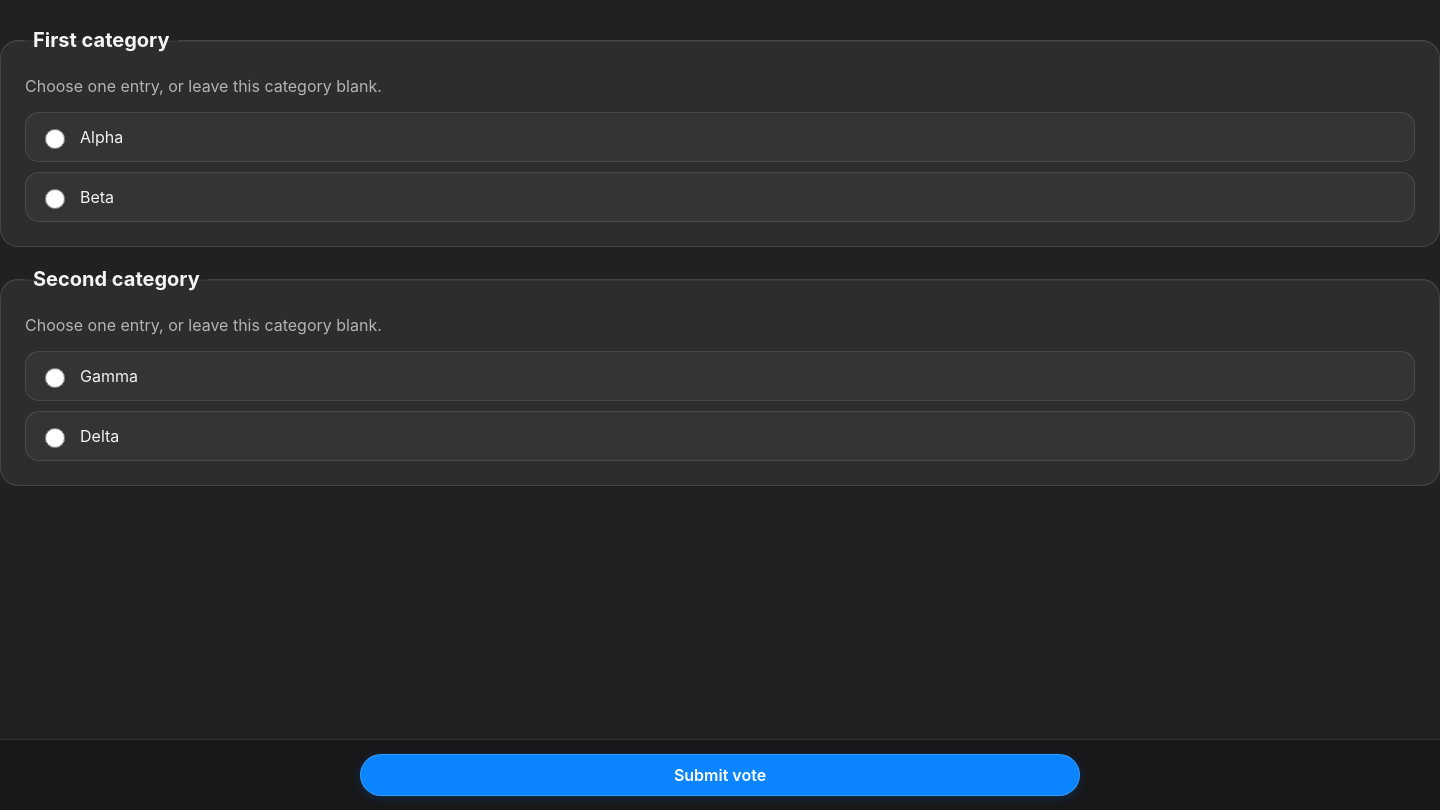
Test: EventBallot › blocks empty ballot, confirms submission, then shows exact read-only ballot
Click the button "Submit vote". click: (720, 775)
box: [360,754,1080,796]
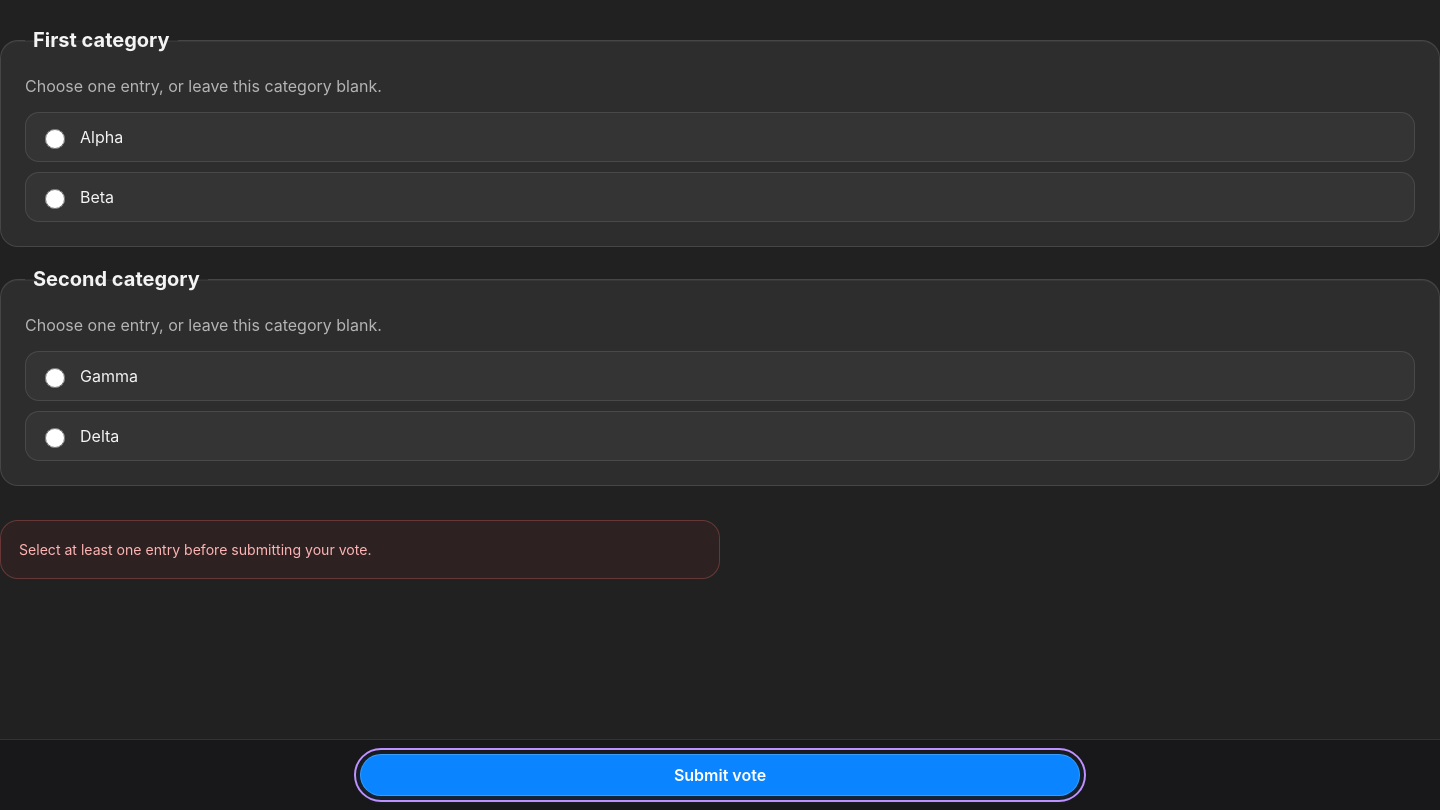
Check: the message shows "Select at least one entry", box [19,541,372,558]
Click the radio button labelled "Beta". click: (55, 198)
box: [45,188,65,208]
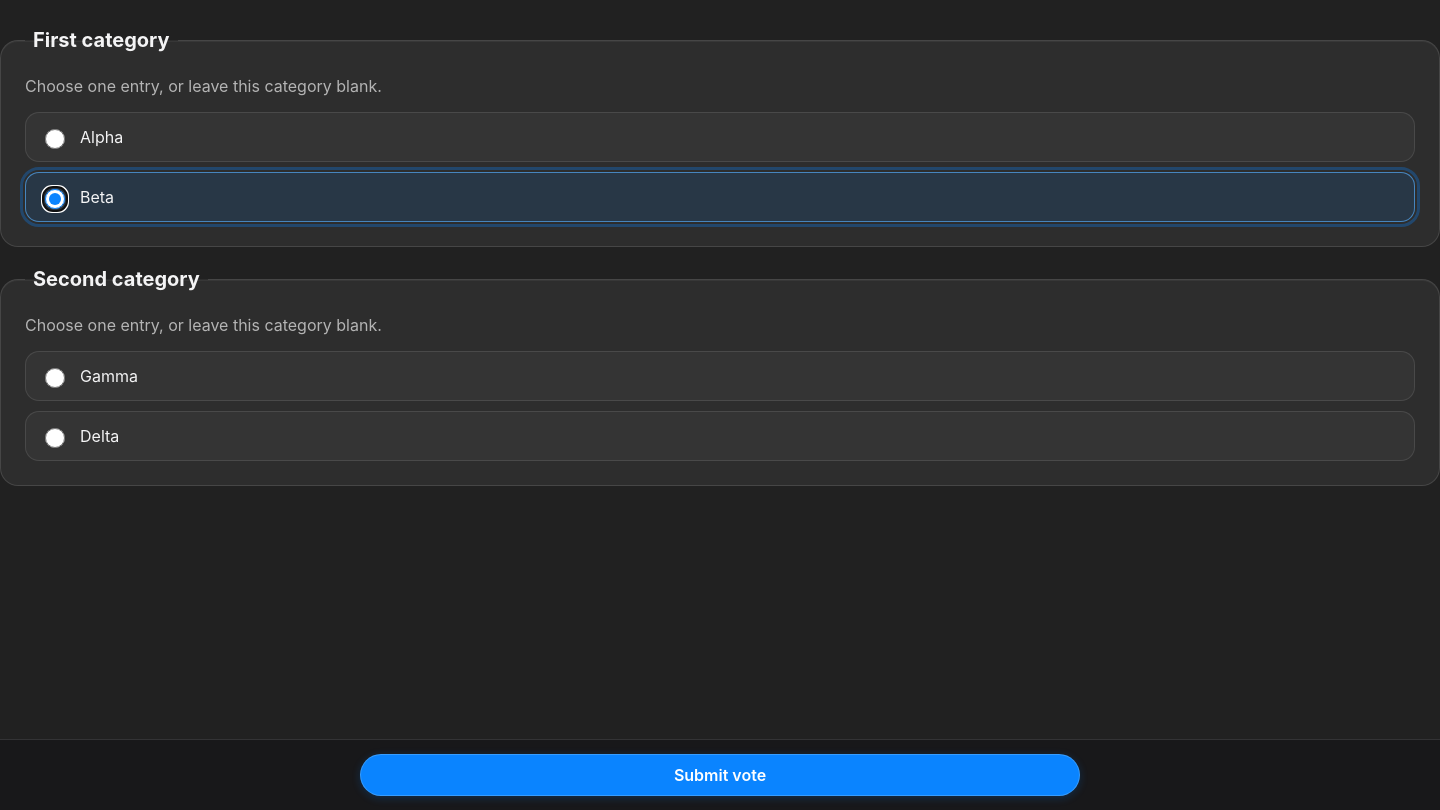
Click the button "Submit vote". click: (720, 775)
box: [360,754,1080,796]
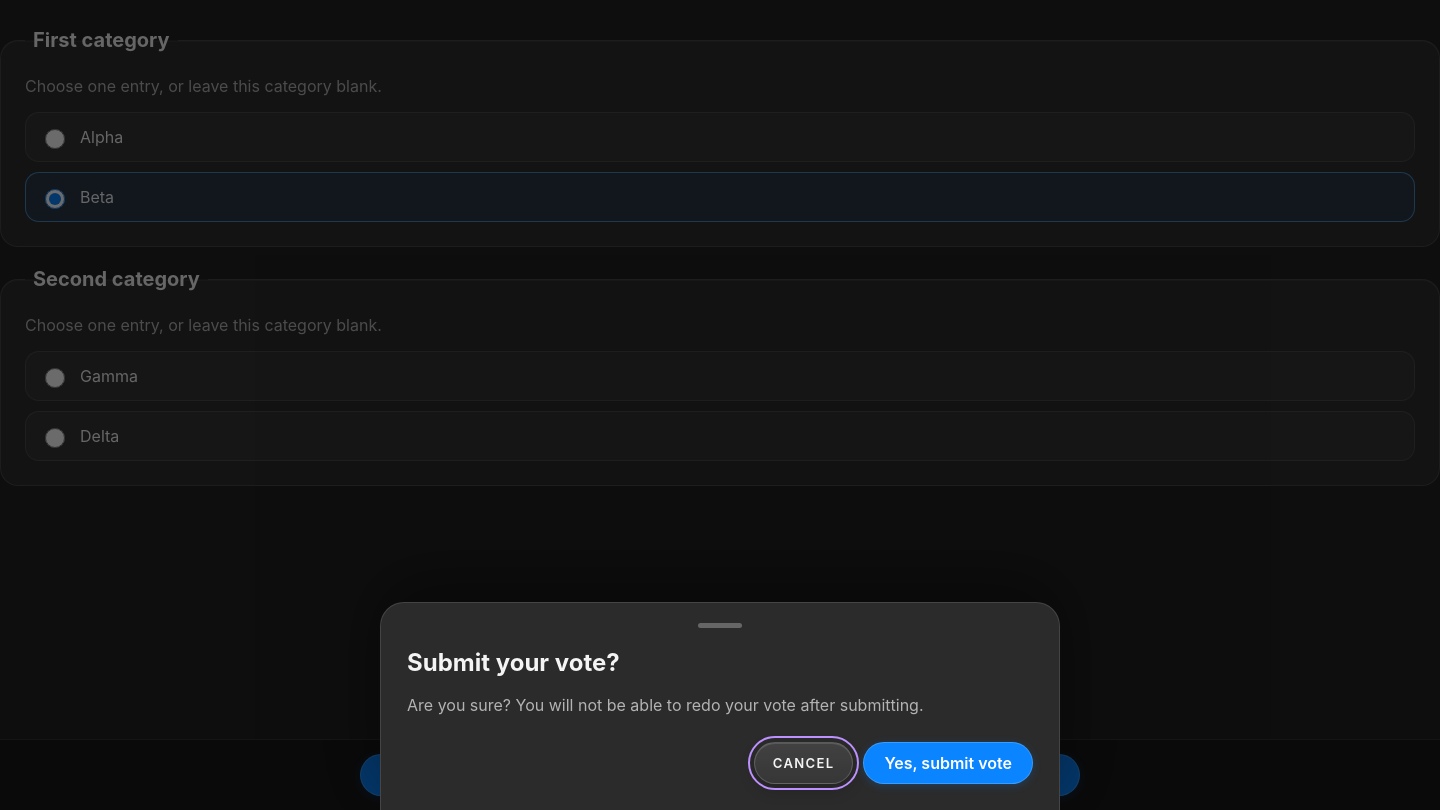
Check: the dialog "Submit your vote?" is shown, box [380,602,1060,809]
Click the button "Yes, submit vote". click: (948, 763)
box: [864,742,1033,784]
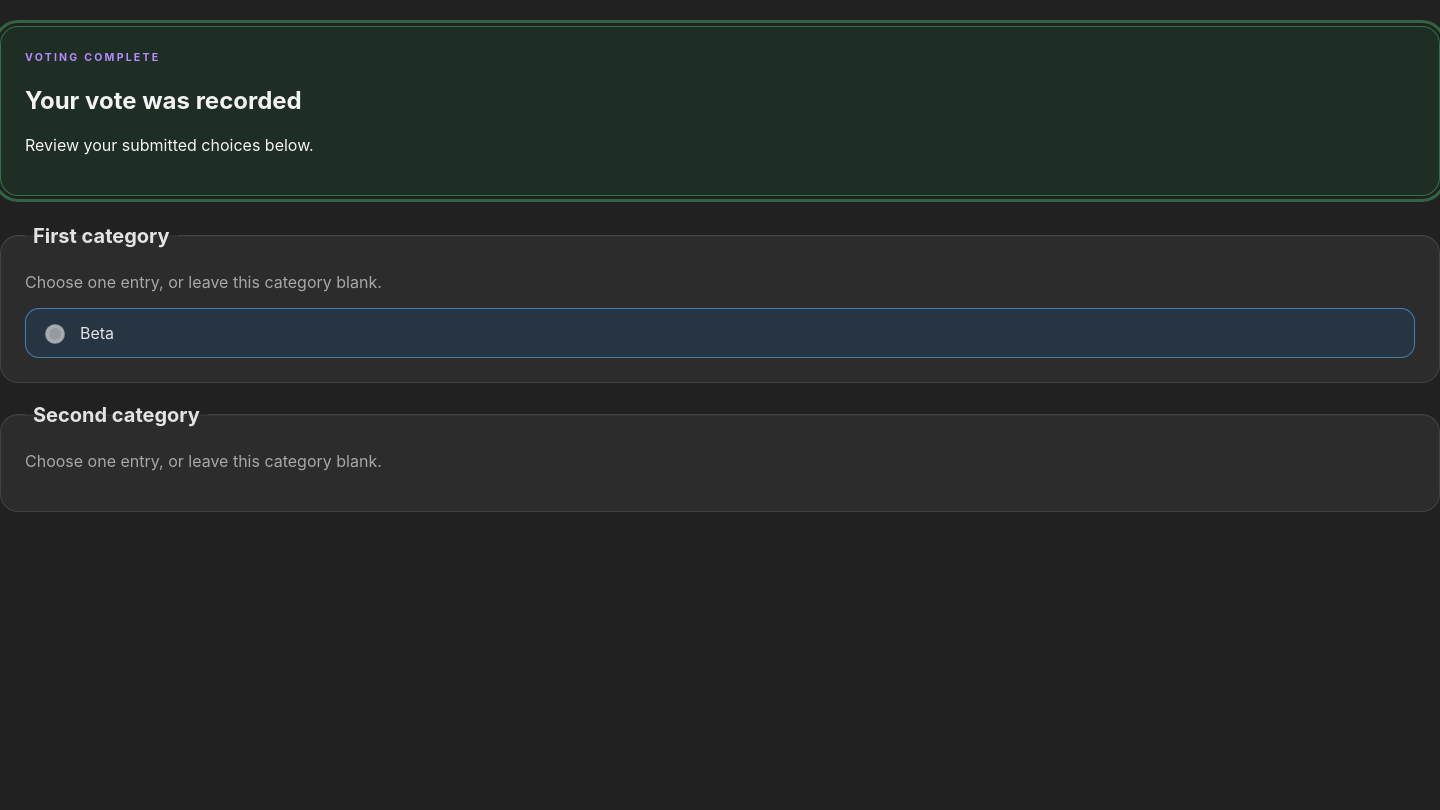
Check: the radio button labelled "Beta" is disabled, box [45,324,65,344]
Check: the radio button labelled "Beta" is checked, box [45,324,65,344]
Check: the heading "Your vote was recorded" is shown, box [25,86,302,115]
